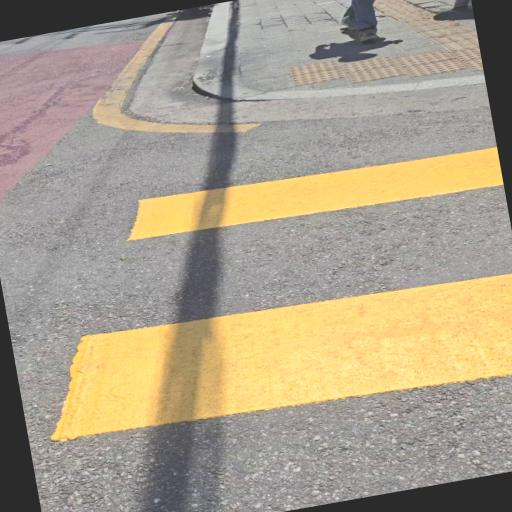yellow-crosswalk: (0, 115, 512, 512)
